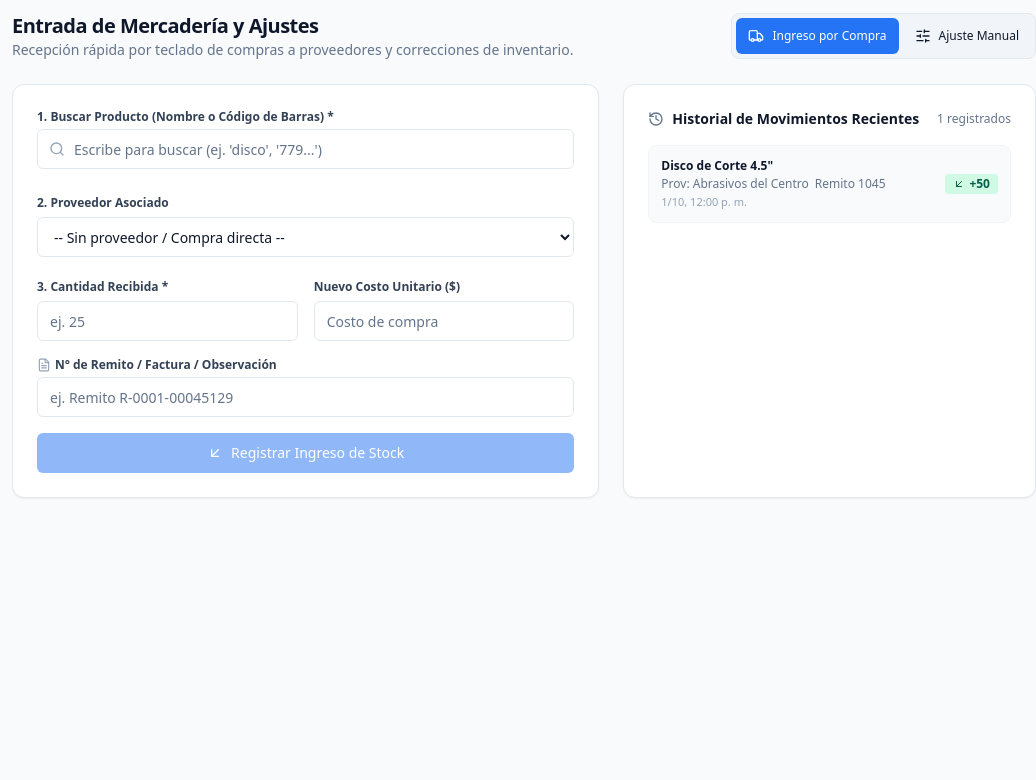
Test: StockEntryView Component › should filter and select a product, displaying current stock and cost
Step 1. Type "Disco" into the field with placeholder "Escribe para buscar (ej. 'disco', '779...')" → (306, 149), box x1=37 y1=129 x2=574 y2=169
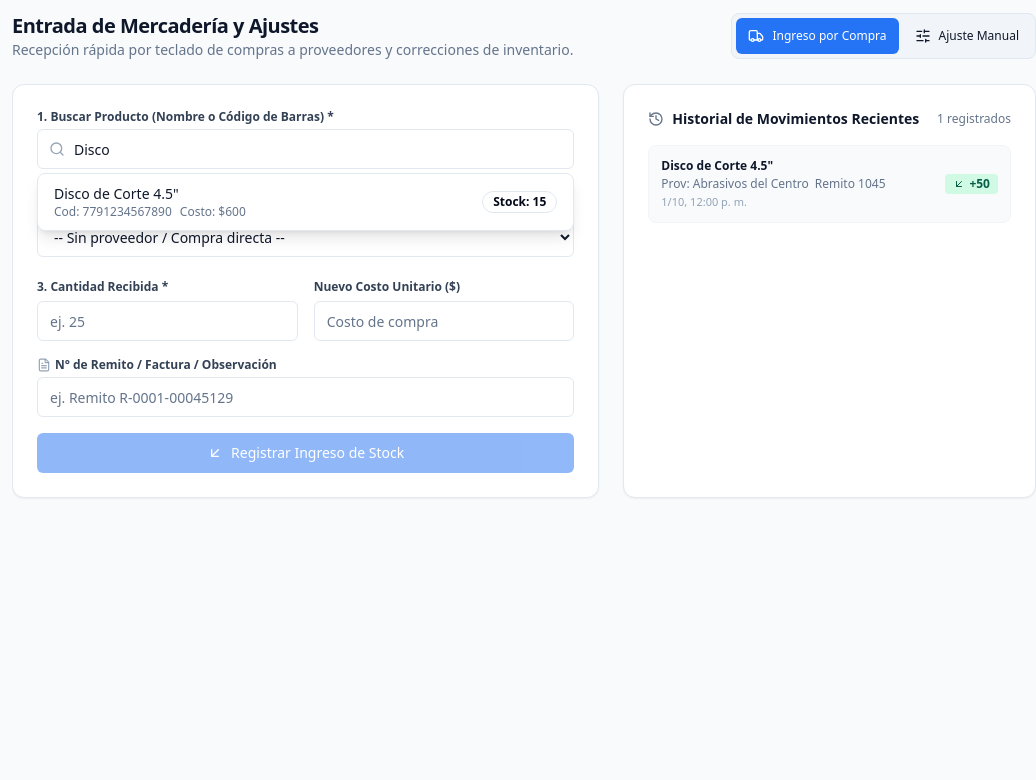
// Autocomplete option appears
Step 2. Click the button "Disco de Corte 4.5\" Cod: 7791234567890 Costo: $600 Stock: 15" → click(116, 194), box x1=38 y1=174 x2=573 y2=230
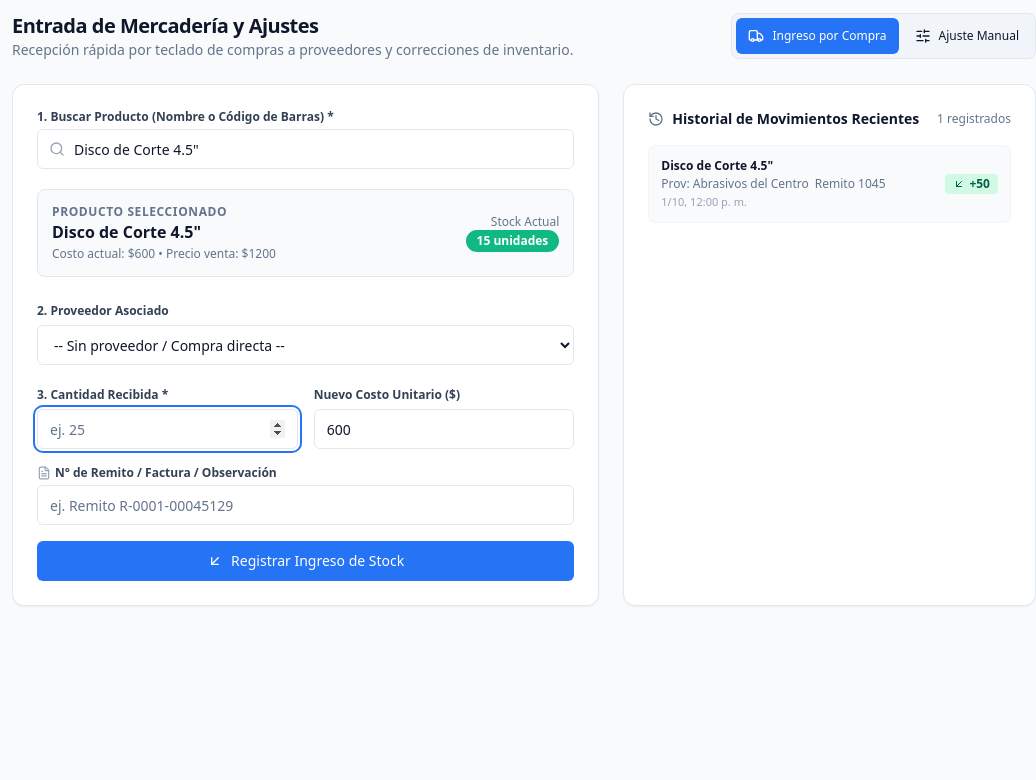
Expected: the text "Producto Seleccionado" is shown, x1=52 y1=203 x2=227 y2=220
Expected: the text "15 unidades" is shown, x1=466 y1=230 x2=559 y2=252
